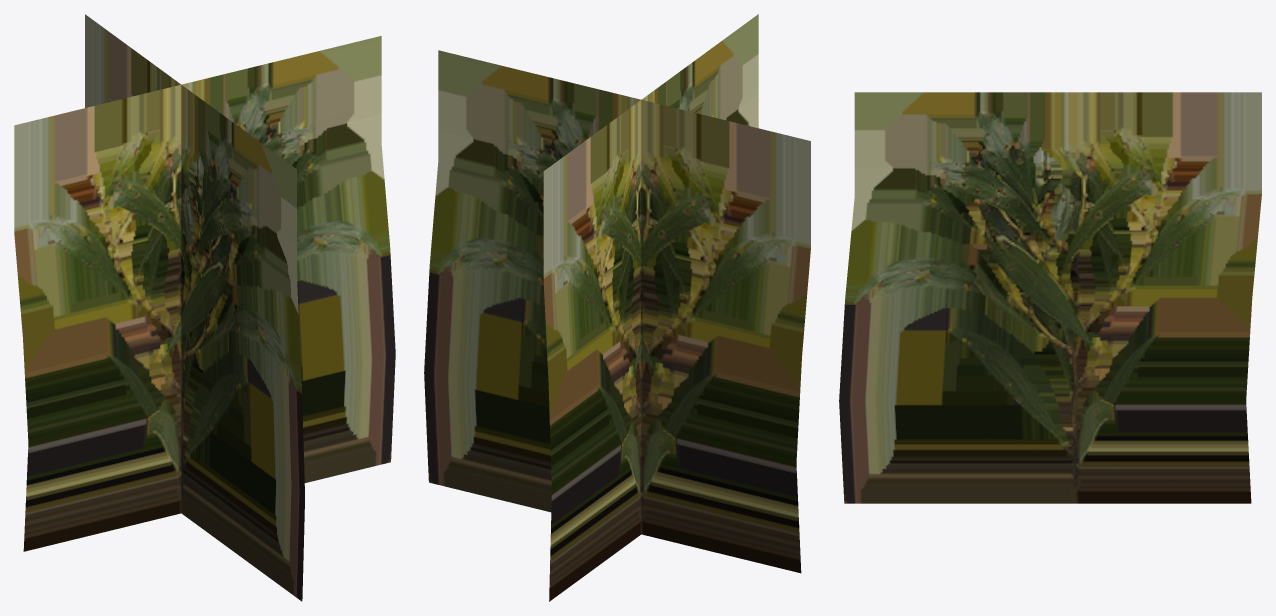
Rendered from Plant_B.fbx.
The picture shows the model from 3 angles, left to right: view 1: azimuth 30°, elevation 25°; view 2: azimuth 150°, elevation 25°; view 3: azimuth 270°, elevation 25°; orthographic projection. The views are drawn at different scales.
Parts seen in each view (by area): view 1: Plane; view 2: Plane; view 3: Plane.
Boxes of the visible parts, x1=… form: Plane: x1=14, y1=14, x2=395, y2=601; Plane: x1=424, y1=14, x2=810, y2=601; Plane: x1=839, y1=92, x2=1261, y2=503.
Bounding box in the file's own units: 0.6161 × 0.6616 × 0.6161.
Materials: 1 (1 with a texture image).
